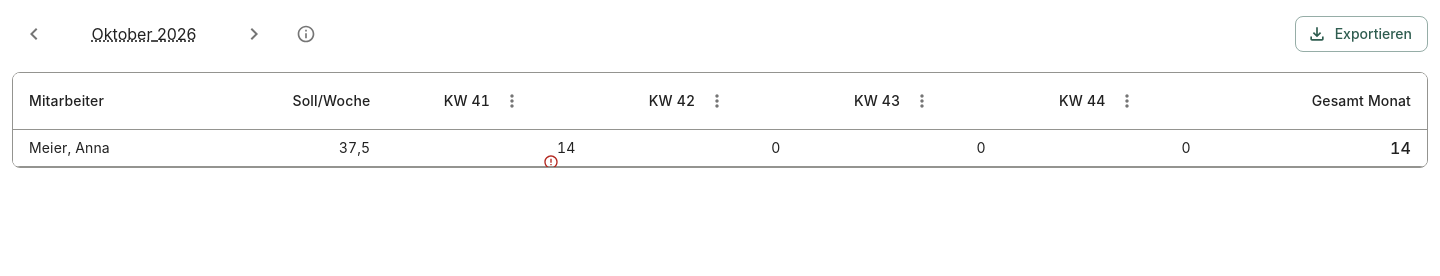
it: MonthOverviewView › a second click on the same warning icon closes the tooltip again
Step 1. Click the button named "Fehler anzeigen" → coordinates (552, 162), box [530,140,574,184]
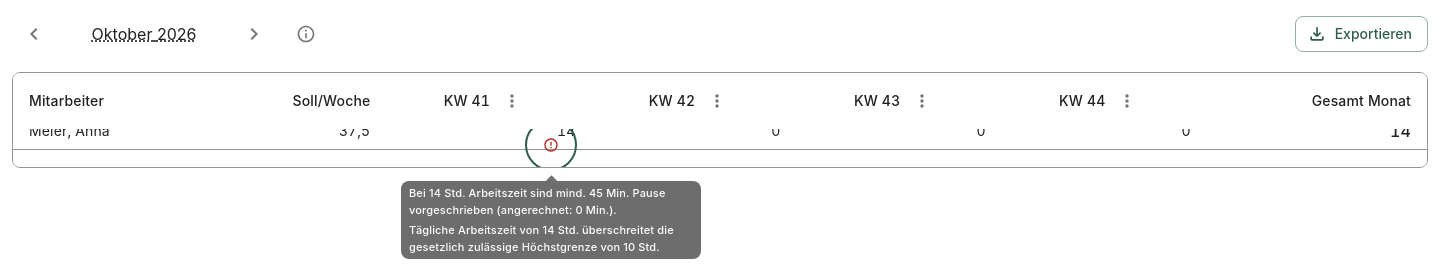
Expected: the text "überschreitet die gesetzlich zulässige Höchstgrenze" is shown, [409,223,674,254]
Step 2. Click the button named "Fehler anzeigen" → coordinates (552, 145), box [530,123,574,167]
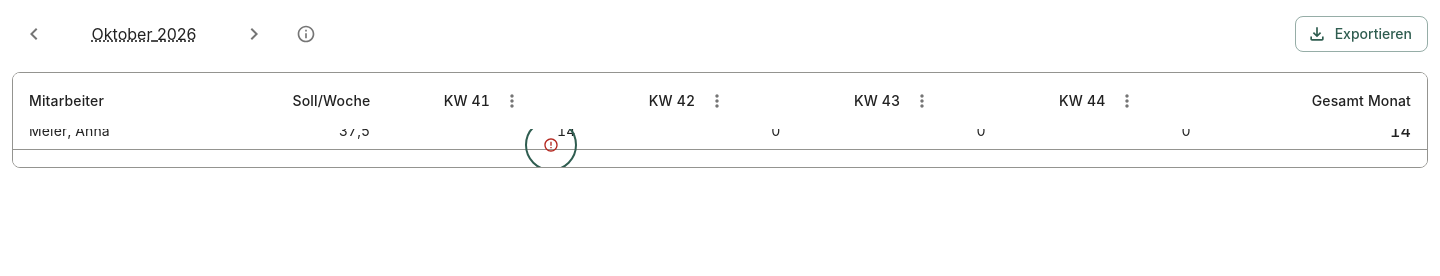
Expected: the text "überschreitet die gesetzlich zulässige Höchstgrenze" is gone
